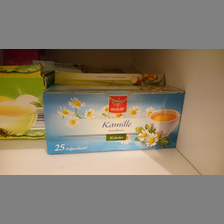tea: (43, 82, 185, 155)
